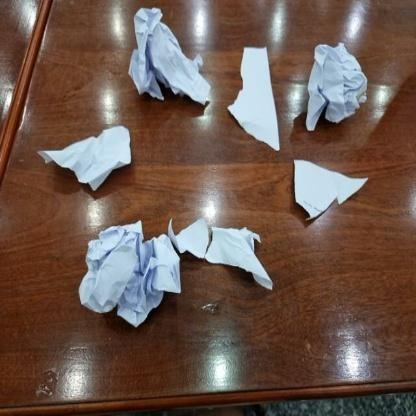trash: (155, 215, 283, 299), (126, 6, 214, 124), (75, 219, 163, 330), (34, 124, 142, 193), (224, 40, 284, 156), (289, 154, 372, 226), (305, 41, 369, 133)
